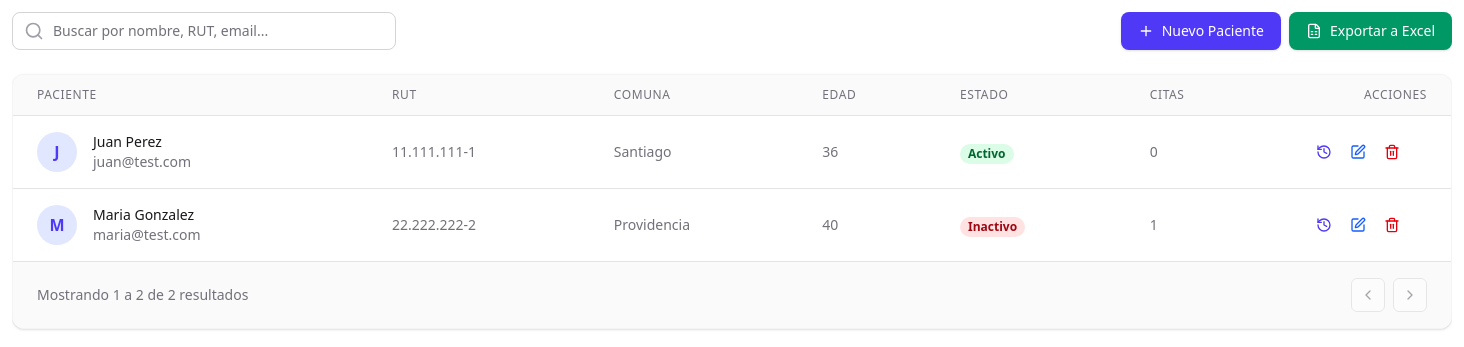
Test: PatientsTable Component › filters patients by RUT
The image size is (1464, 347).
Type "11.111" into the field with placeholder "Buscar por nombre, RUT, email...". click: [204, 31]
box: x1=12 y1=12 x2=396 y2=50
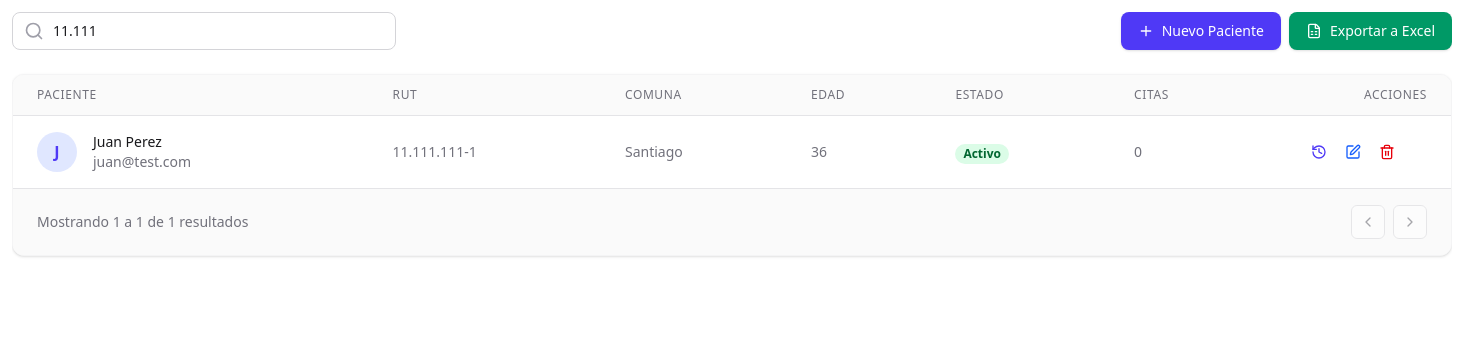
Expected: the text "Juan Perez" is shown, x1=93 y1=132 x2=162 y2=151
Expected: the text "Maria Gonzalez" is gone
